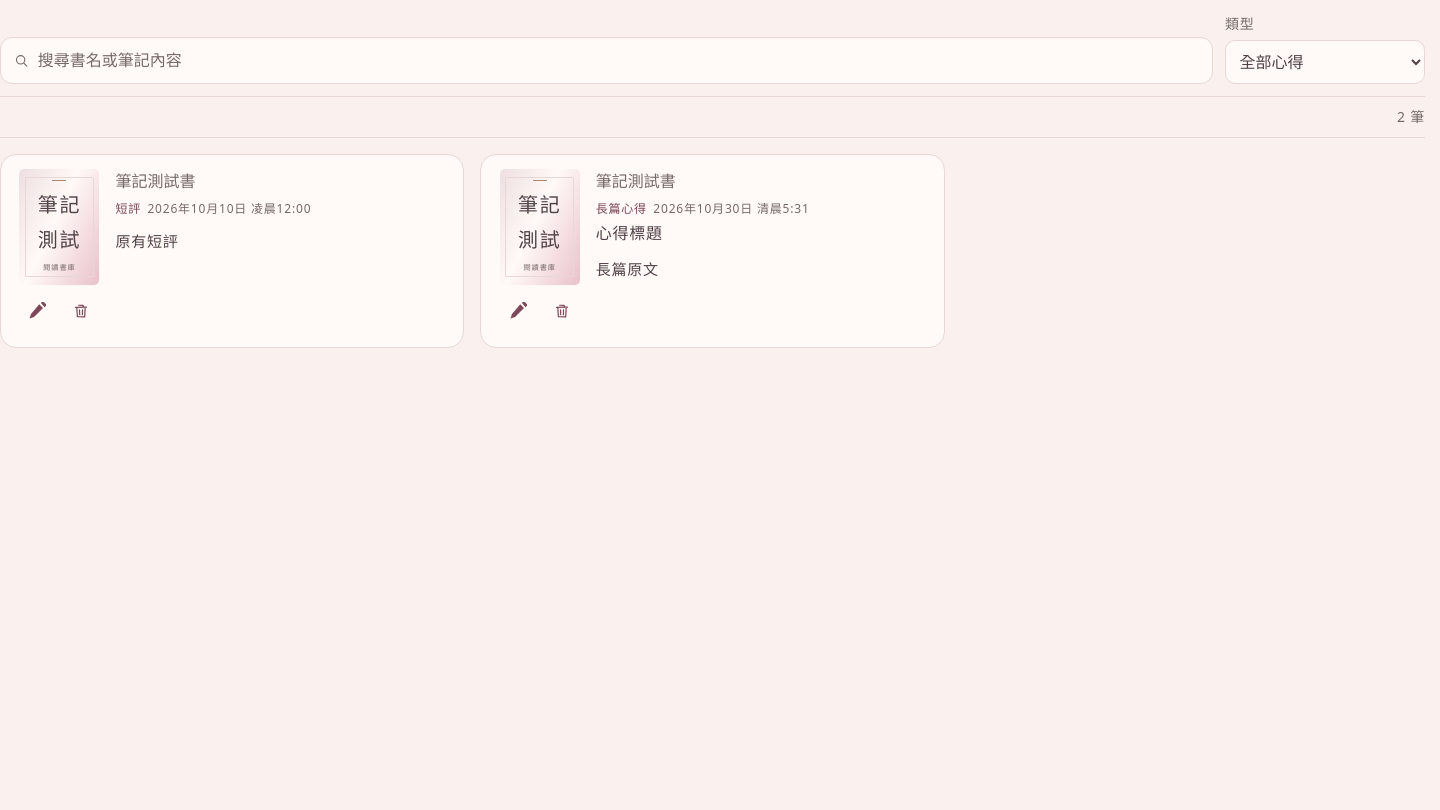
Scenario: keeps long-review title and text in the dialog after a revision conflict
Check: the text "原有短評" is shown, box [115,231,179,251]
Step 1. Click the button named "編輯" below "長篇心得" → (518, 311), box [496,289,540,333]
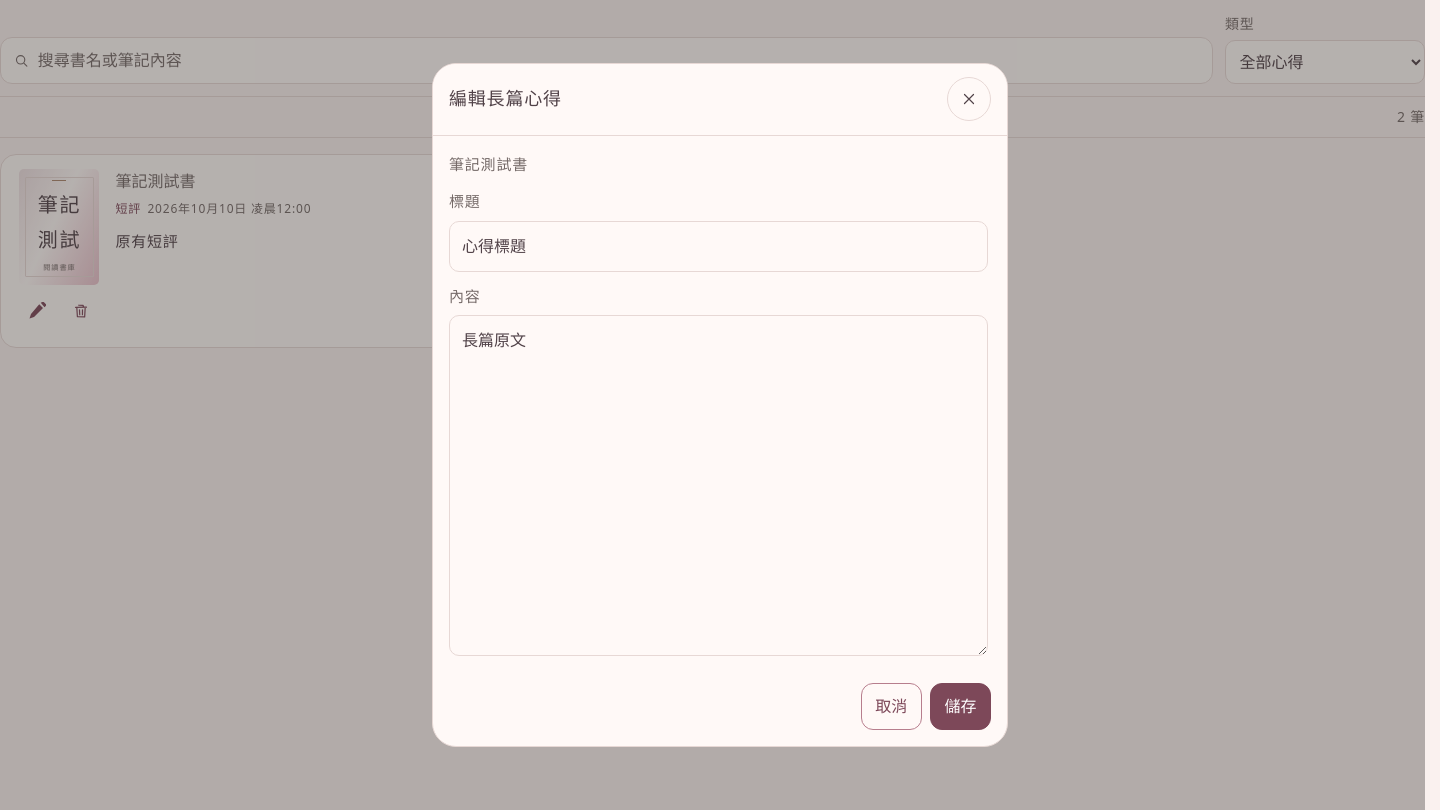
Step 2. Replace the text in the field labelled "標題" with "本機草稿標題" → (718, 246), box [449,220,988,272]
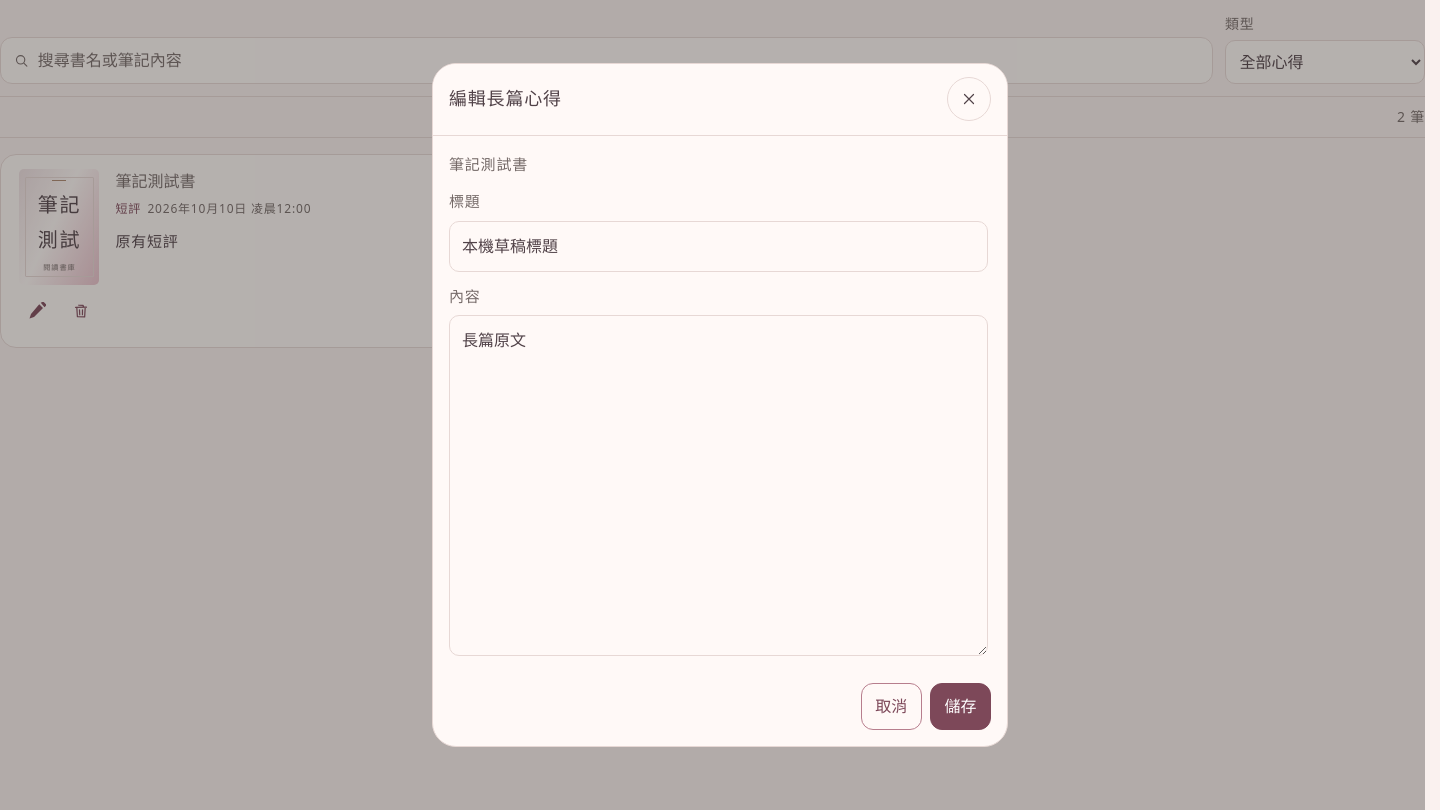
Step 3. Replace the text in the text box labelled "內容" with "本機草稿內容" → (718, 486), box [449,315,988,656]
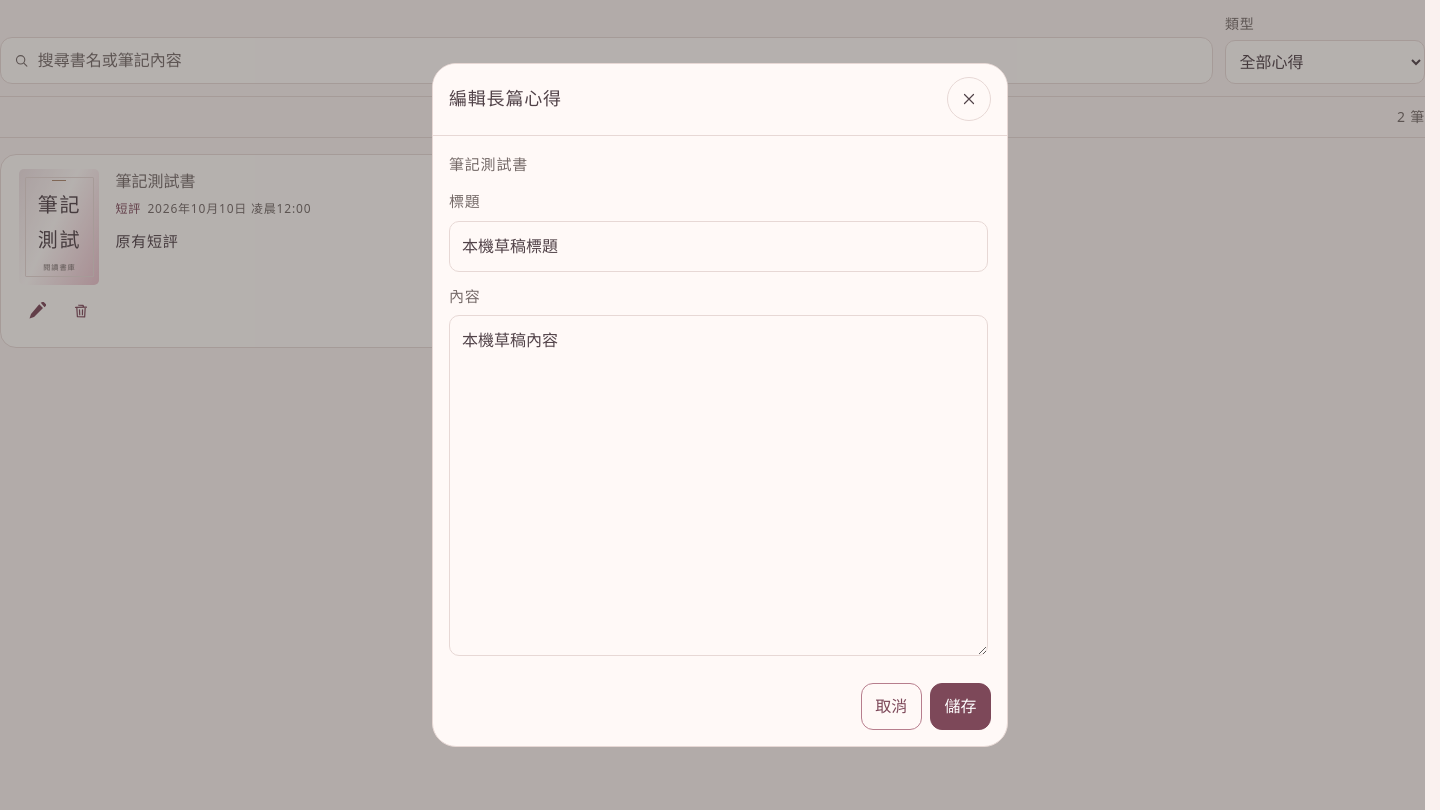
Step 4. Click the button "儲存" → (960, 707), box [930,684,991,730]
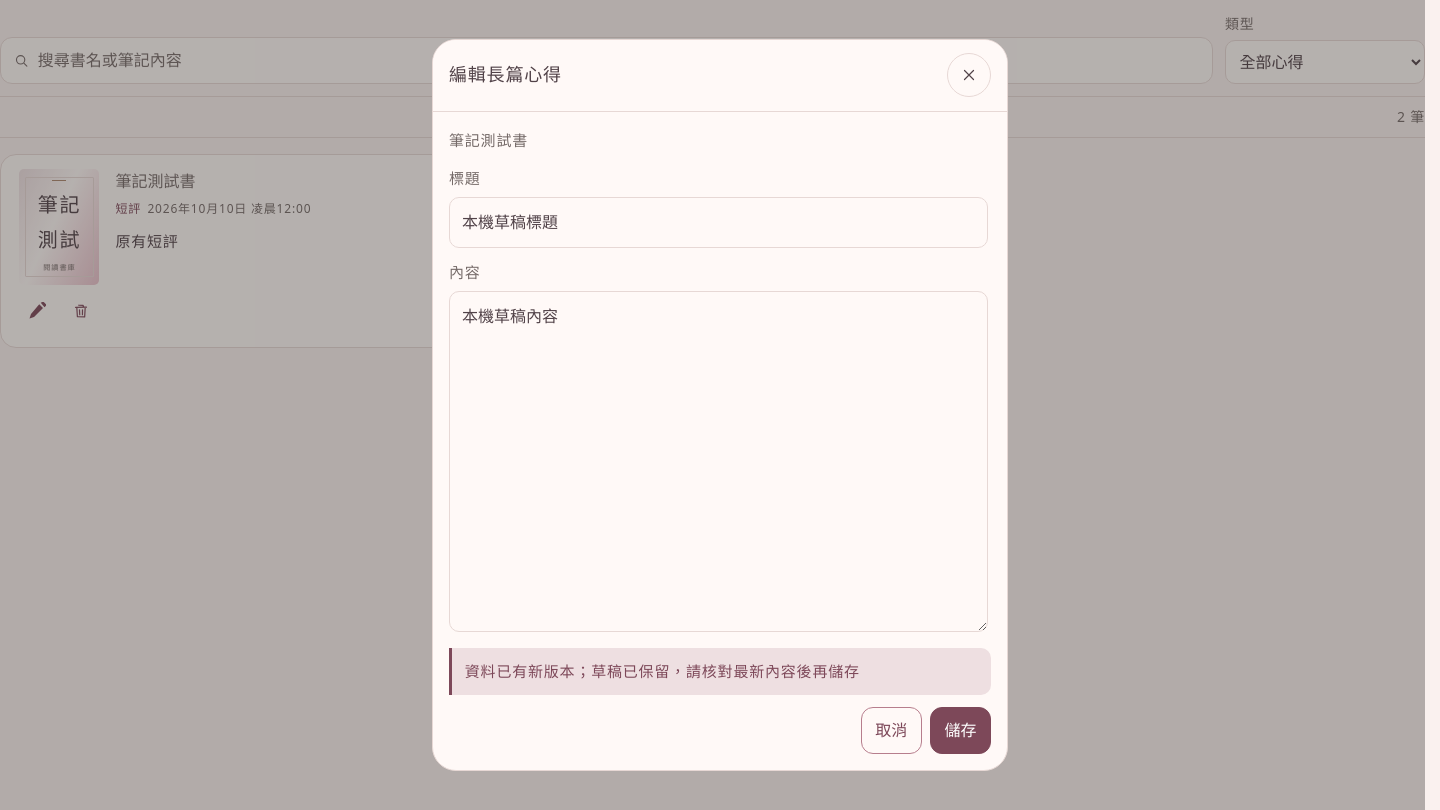
Check: the message shows "資料已有新版本", box [465,661,860,681]
